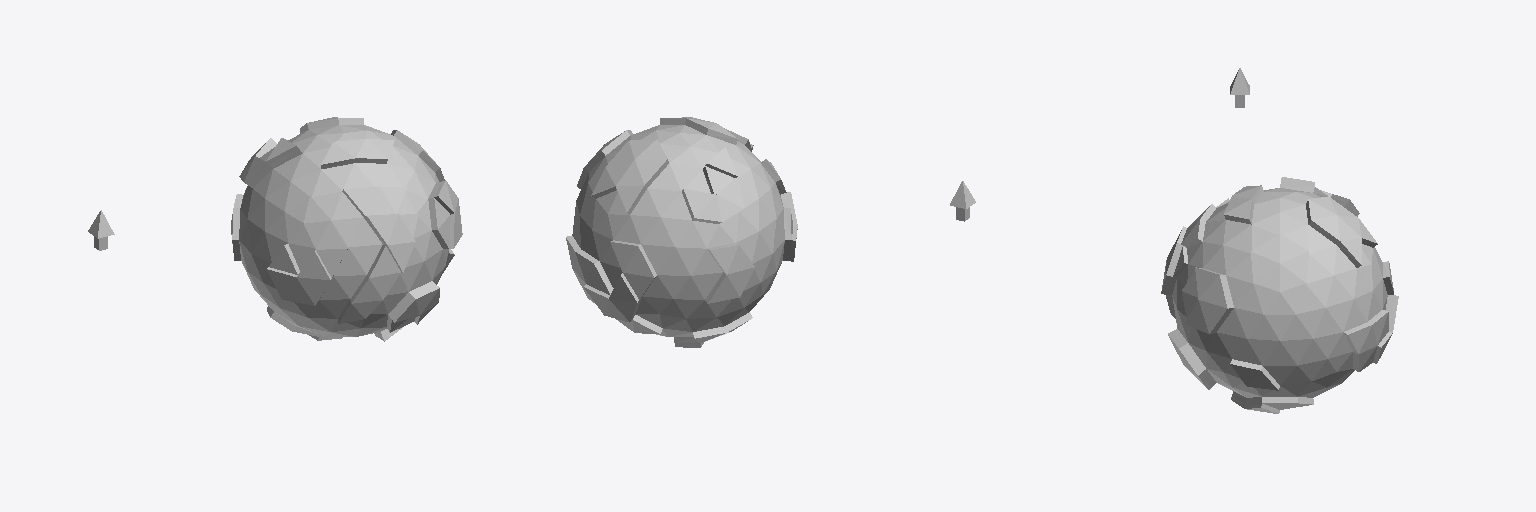
The model's file is world1.0.obj.
3 views of the same model, side by side, from view 1: azimuth 30°, elevation 25°; view 2: azimuth 150°, elevation 25°; view 3: azimuth 270°, elevation 25° (orthographic).
Visible parts, largest first — view 1: Icosphere, Cube_Cube.001; view 2: Icosphere, Cube_Cube.001; view 3: Icosphere.
Boxes of the visible parts, <box> form: Icosphere: <box>231,117,462,341</box>; Cube_Cube.001: <box>88,210,114,250</box>; Icosphere: <box>566,117,797,347</box>; Cube_Cube.001: <box>950,181,975,221</box>; Icosphere: <box>1161,177,1398,413</box>.
Size of the model in its own units: 3.93 by 2.13 by 2.21.